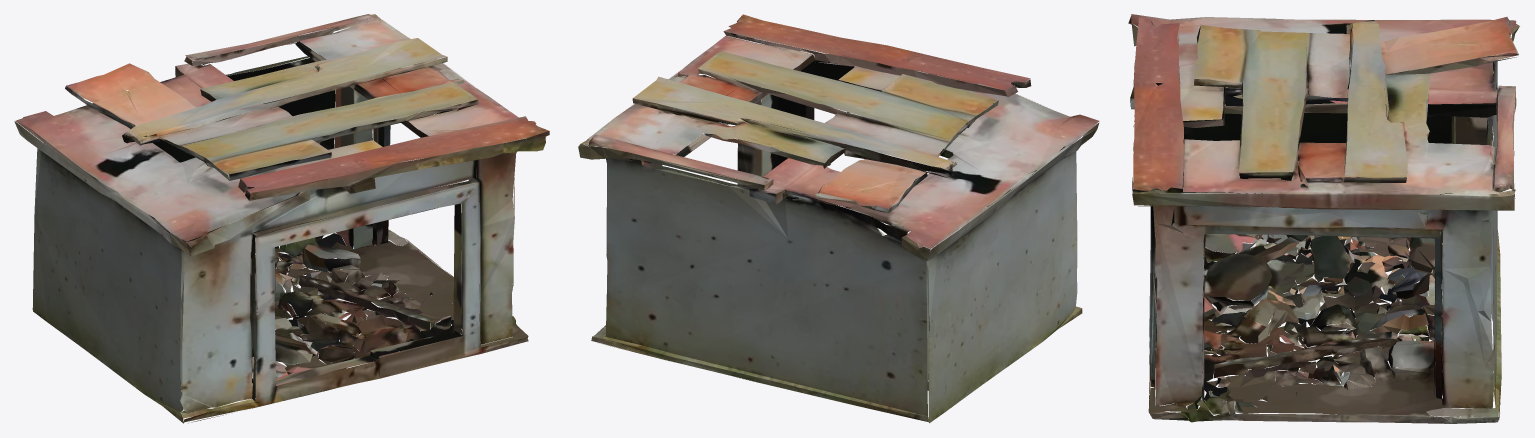
The model's file is collapsed-garage.glb.
The picture shows the model from 3 angles, left to right: view 1: azimuth 30°, elevation 25°; view 2: azimuth 150°, elevation 25°; view 3: azimuth 270°, elevation 25°; orthographic projection. The views are drawn at different scales.
Parts seen in each view (by area): view 1: tmpg7u9f3rs.ply; view 2: tmpg7u9f3rs.ply; view 3: tmpg7u9f3rs.ply.
Boxes of the visible parts, x1,y1,x2,y2 form: tmpg7u9f3rs.ply: (14,14,549,423); tmpg7u9f3rs.ply: (578,14,1099,423); tmpg7u9f3rs.ply: (1128,14,1519,423).
Bounding box in the file's own units: 6 × 3.5 × 5.
Materials: 1 (1 with a texture image).
